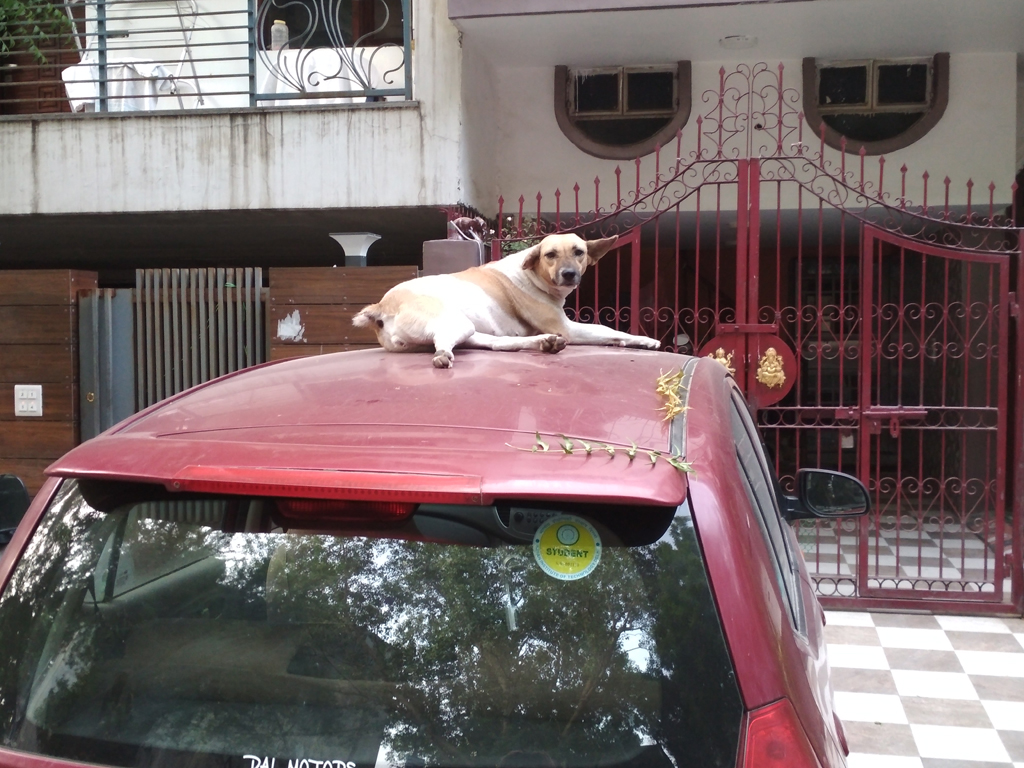dog: (351, 233, 661, 369)
